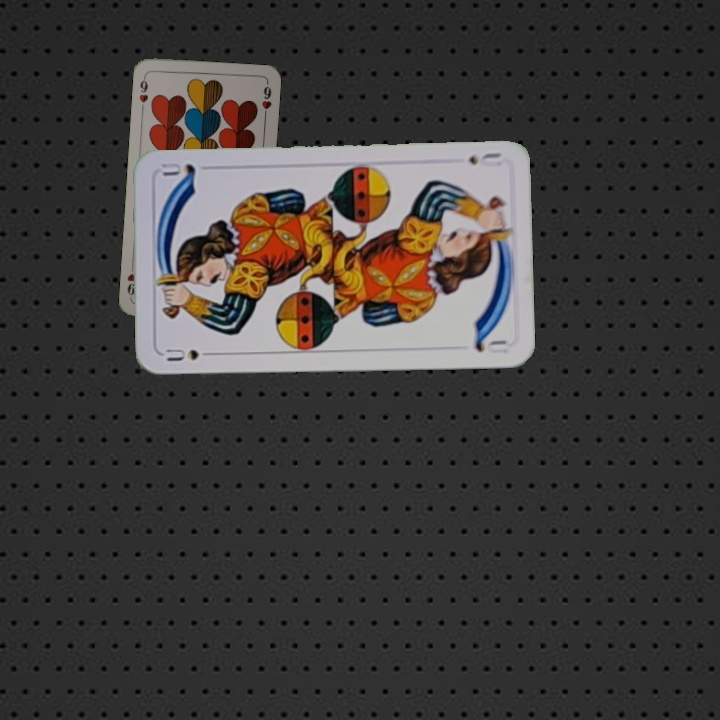H9: (135, 72, 150, 112)
SU: (161, 344, 219, 364), (464, 148, 504, 170)
